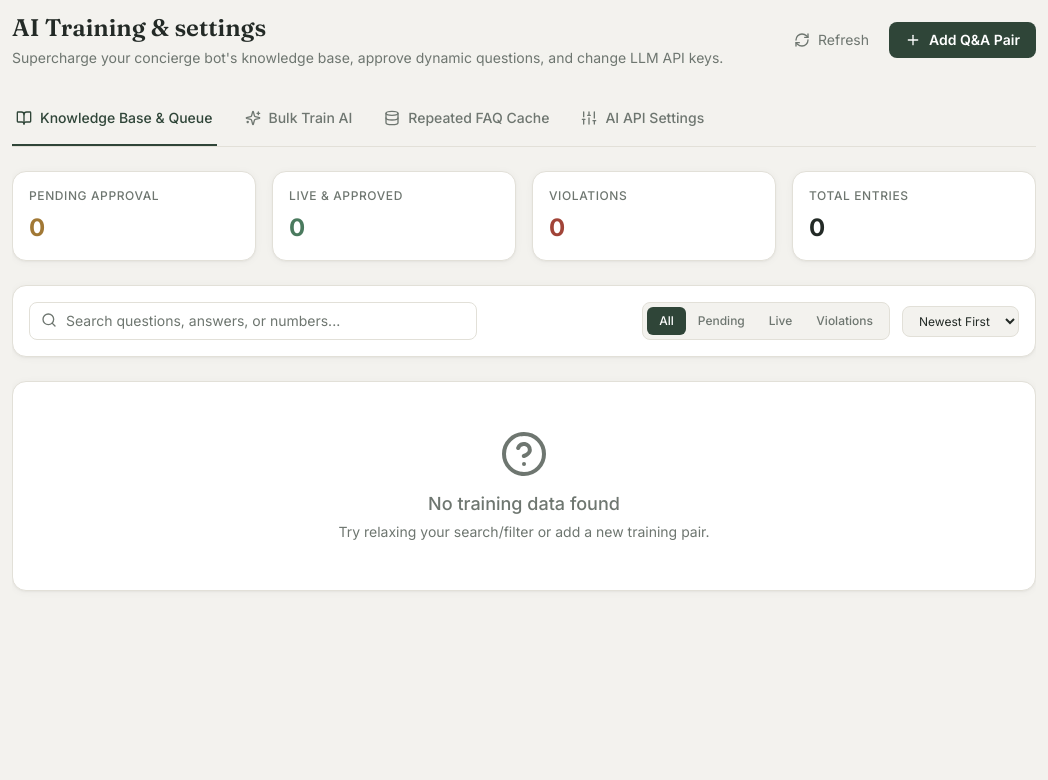
Test case: Training page › FAQ cache tab explains a failure instead of looking empty
Check: the heading "AI Training & settings" is shown, box [12,13,266,42]
What coordinates should you click on to do the following:
click the button "Repeated FAQ Cache"
I would click on:
 (467, 119)
Its box is [380,92,553,146].
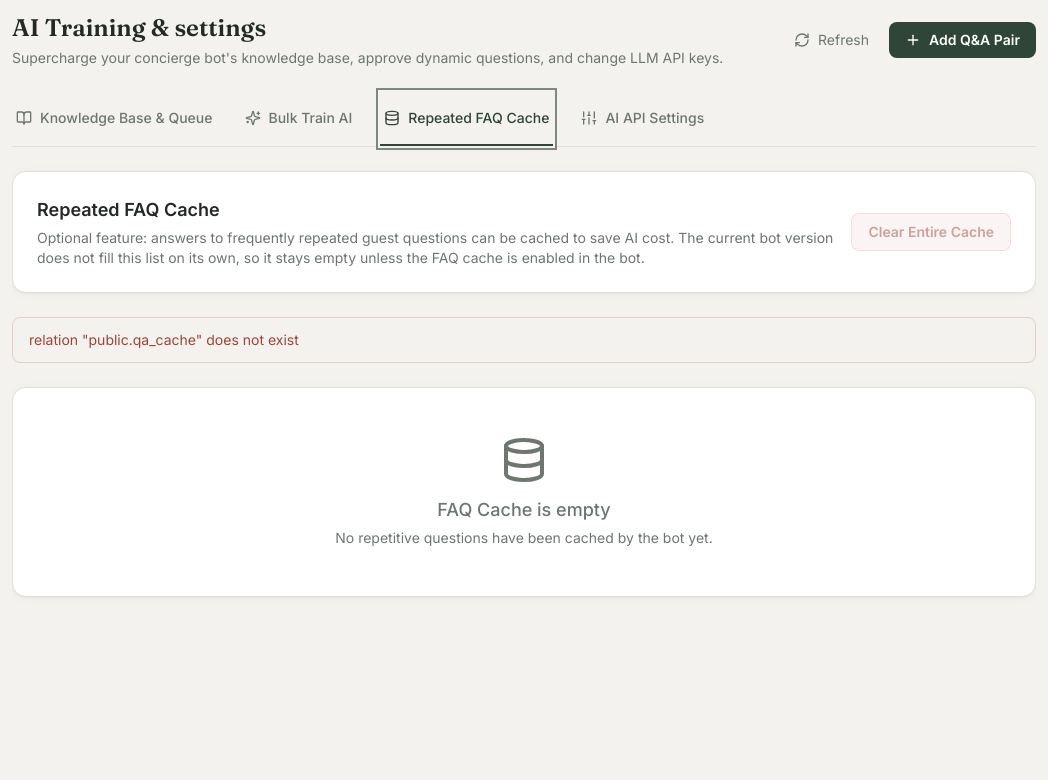
Check: the message shows "qa_cache", box [29,331,299,348]
